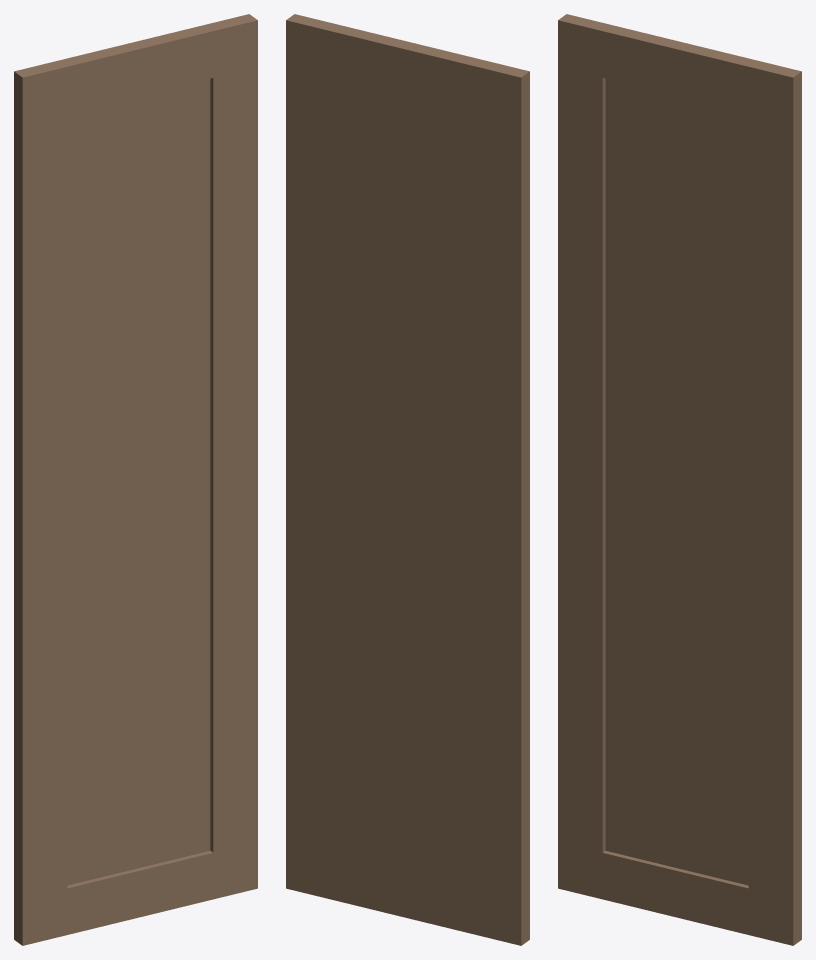
The model's file is door_06.obj.
3 renders of one model, left to right at view 1: azimuth 30°, elevation 25°; view 2: azimuth 150°, elevation 25°; view 3: azimuth 330°, elevation 25°, orthographic.
Parts seen in each view (by area): view 1: door_06; view 2: door_06; view 3: door_06.
Part boxes in pixels (x1=…): door_06: x1=14, y1=14, x2=257, y2=945; door_06: x1=286, y1=14, x2=529, y2=945; door_06: x1=558, y1=14, x2=801, y2=945.
Size of the model in its own units: 302 by 1064 by 19.05.
